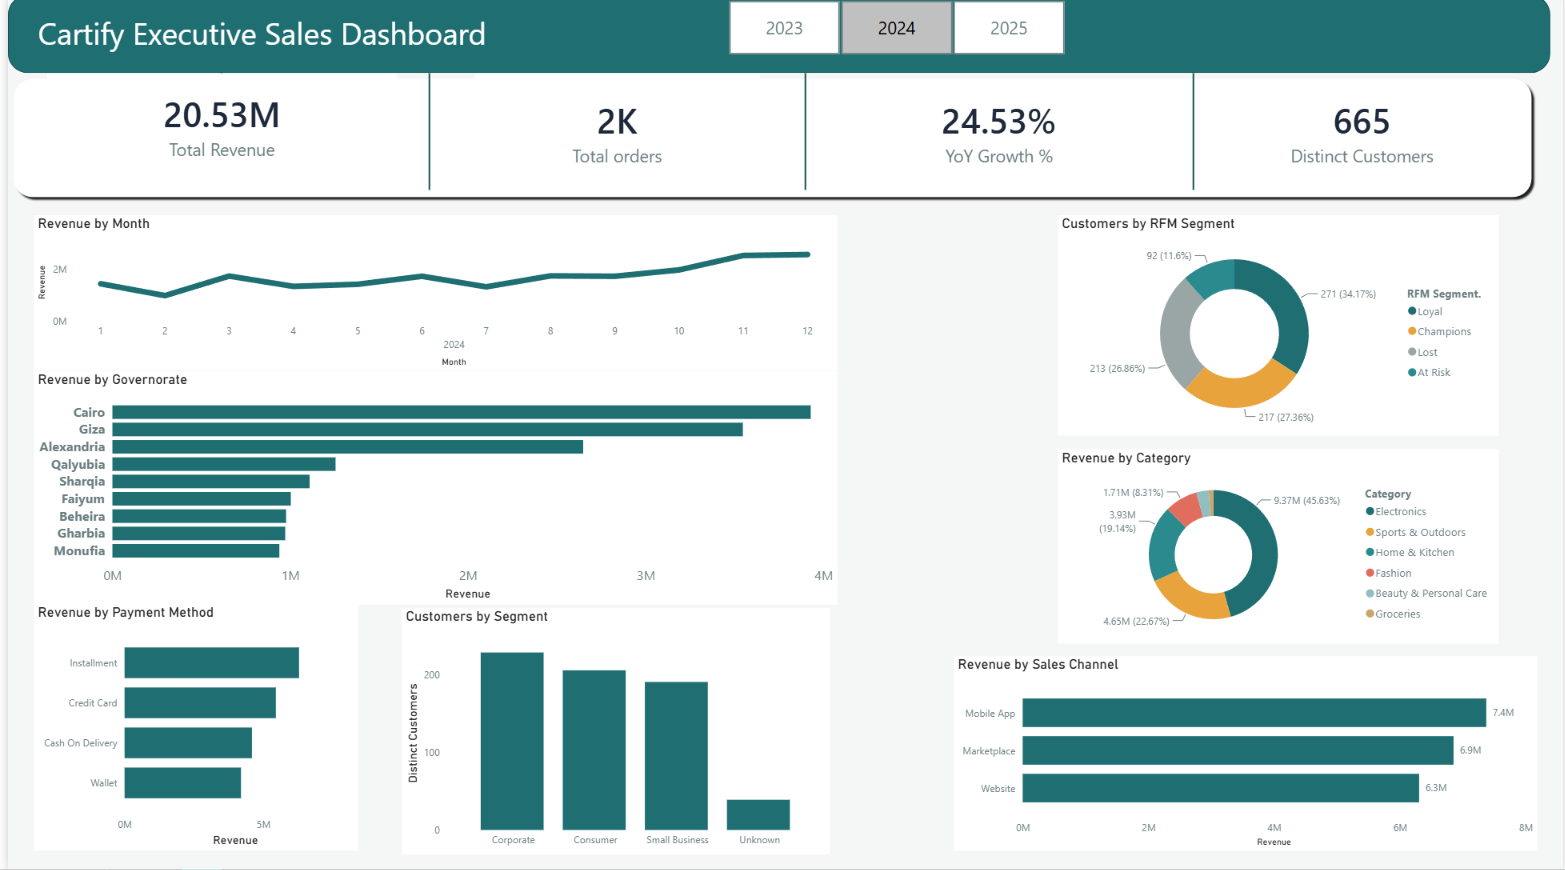

What the dashboard file says about the page in this screenshot:
{"tool":"powerbi","page":{"name":"Page 1","canvas":[1920,1080],"ordinal":0},"visuals":[{"type":"donutChart","title":"Revenue by Category","fields":{"Category":["Products.category"],"Y":["Customer_rfm.Total Revenue"]},"box":[1296,560,544,240],"z":0},{"type":"clusteredBarChart","title":"Revenue by Governorate","fields":{"Category":["Customers.governorate"],"Y":["Customer_rfm.Total Revenue"]},"box":[32,464,992,288],"z":1000},{"type":"lineChart","title":"Revenue by Month","fields":{"Category":["Orders.order_year","Orders.order_month"],"Y":["Customer_rfm.Total Revenue"]},"box":[32,272,992,192],"z":2000},{"type":"shape","box":[0,96,1888,160],"z":3000},{"type":"shape","box":[224,88,80,112],"z":5000},{"type":"shape","box":[944,96,80,144],"z":6000},{"type":"shape","box":[1424,96,80,144],"z":7000},{"type":"shape","box":[480,96,80,144],"z":8000},{"type":"cardVisual","fields":{"Data":["Customer_rfm.Total Revenue"]},"box":[48,96,432,128],"z":9000},{"type":"cardVisual","fields":{"Data":["Customer_rfm.Total orders"]},"box":[576,96,352,144],"z":10000},{"type":"shape","box":[0,0,1904,96],"z":10500},{"type":"cardVisual","fields":{"Data":["Customer_rfm.YoY Growth %"]},"box":[1040,112,368,112],"z":11000},{"type":"cardVisual","fields":{"Data":["Customer_rfm.Distinct Customers"]},"box":[1488,112,368,112],"z":12000},{"type":"clusteredBarChart","title":"Revenue by Sales Channel","fields":{"Category":["Orders.sales_channel"],"Y":["Customer_rfm.Total Revenue"]},"box":[1168,816,720,240],"z":14000},{"type":"clusteredColumnChart","title":"Customers by Segment","fields":{"Category":["Customers.customer_segment"],"Y":["Customer_rfm.Distinct Customers"]},"box":[486,756.7,528,304],"z":15000},{"type":"clusteredBarChart","title":"Revenue by Payment Method","fields":{"Category":["Orders.payment_method"],"Y":["Customer_rfm.Total Revenue"]},"box":[32,752,400,304],"z":16000},{"type":"donutChart","title":"Customers by RFM Segment","fields":{"Category":["Customer_rfm.rfm_segment"],"Y":["Customer_rfm.Distinct Customers"]},"box":[1296,272,544,272],"z":17000},{"type":"textbox","box":[32,16,608,96],"z":18000},{"type":"slicer","fields":{"Values":["Orders.order_year"]},"box":[864,0,464,80],"z":18500}]}

Visuals, with their boxes in screenshot pixels (x1, y1, x2, y2), scaled from the page's 1920x1080 canvas onto the 1565x870 screenshot:
"Revenue by Category" donutChart: 1056:451:1500:644
"Revenue by Governorate" clusteredBarChart: 26:374:835:606
"Revenue by Month" lineChart: 26:219:835:374
shape: 0:77:1539:206
shape: 183:71:248:161
shape: 769:77:835:193
shape: 1161:77:1226:193
shape: 391:77:456:193
cardVisual - Customer_rfm.Total Revenue: 39:77:391:180
cardVisual - Customer_rfm.Total orders: 470:77:756:193
shape: 0:0:1552:77
cardVisual - Customer_rfm.YoY Growth %: 848:90:1148:180
cardVisual - Customer_rfm.Distinct Customers: 1213:90:1513:180
"Revenue by Sales Channel" clusteredBarChart: 952:657:1539:851
"Customers by Segment" clusteredColumnChart: 396:610:827:854
"Revenue by Payment Method" clusteredBarChart: 26:606:352:851
"Customers by RFM Segment" donutChart: 1056:219:1500:438
textbox: 26:13:522:90
slicer - Orders.order_year: 704:0:1082:64
